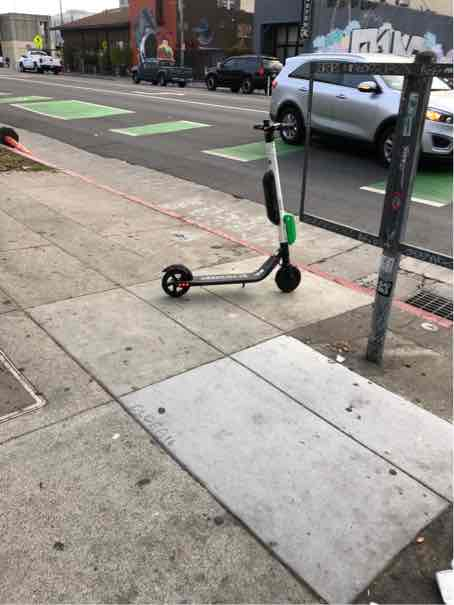scooter: (155, 100, 313, 315)
